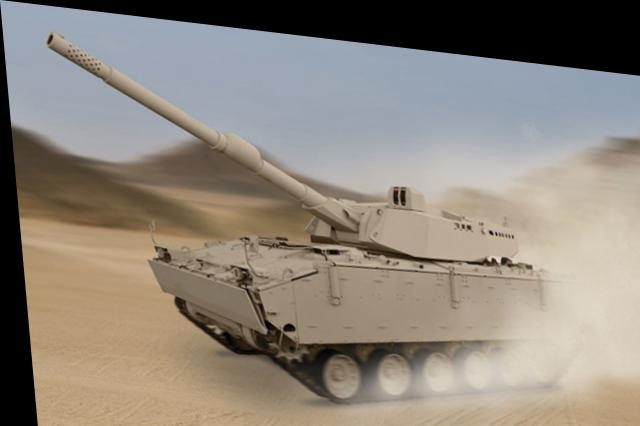tank: (138, 158, 574, 420)
